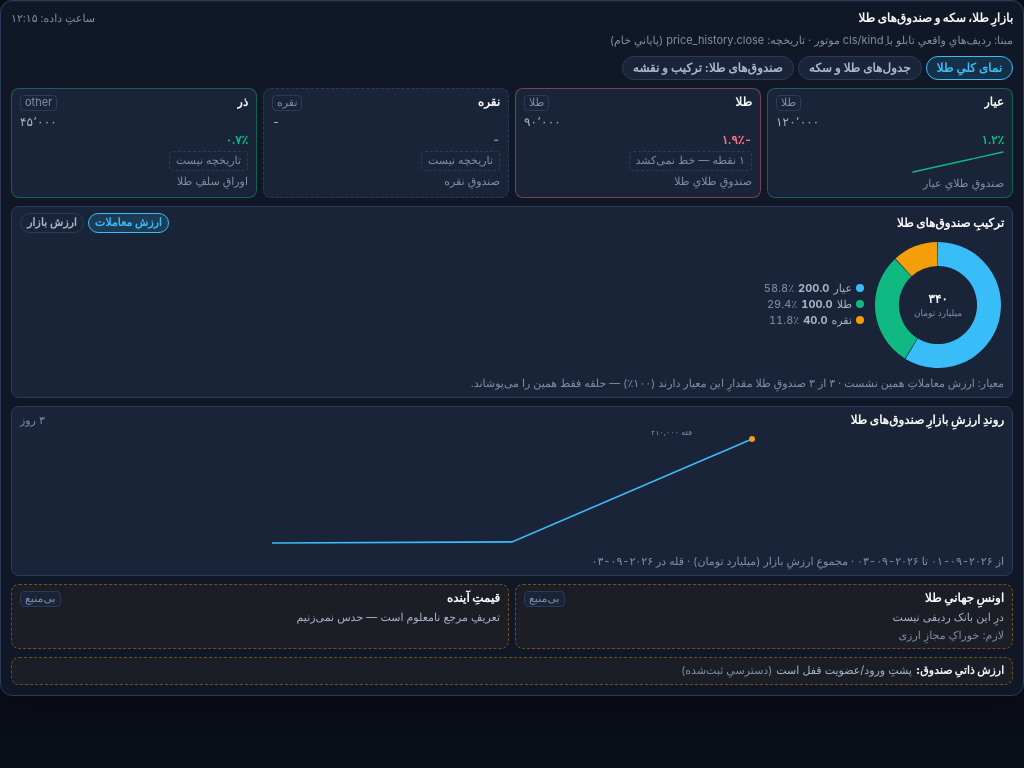
طلا، سکه و صندوق‌های طلا (صفحاتِ ۱/۳/۱۰/۱۱/۱۲) › معیارِ حلقه عوض می‌شود و بی‌داده (ارزش بازارِ نقره) از شمارش بیرون می‌ماند
Click the button with test id "ms-gold-donut-metric-cap" at (52, 223), box [20,213,84,233]
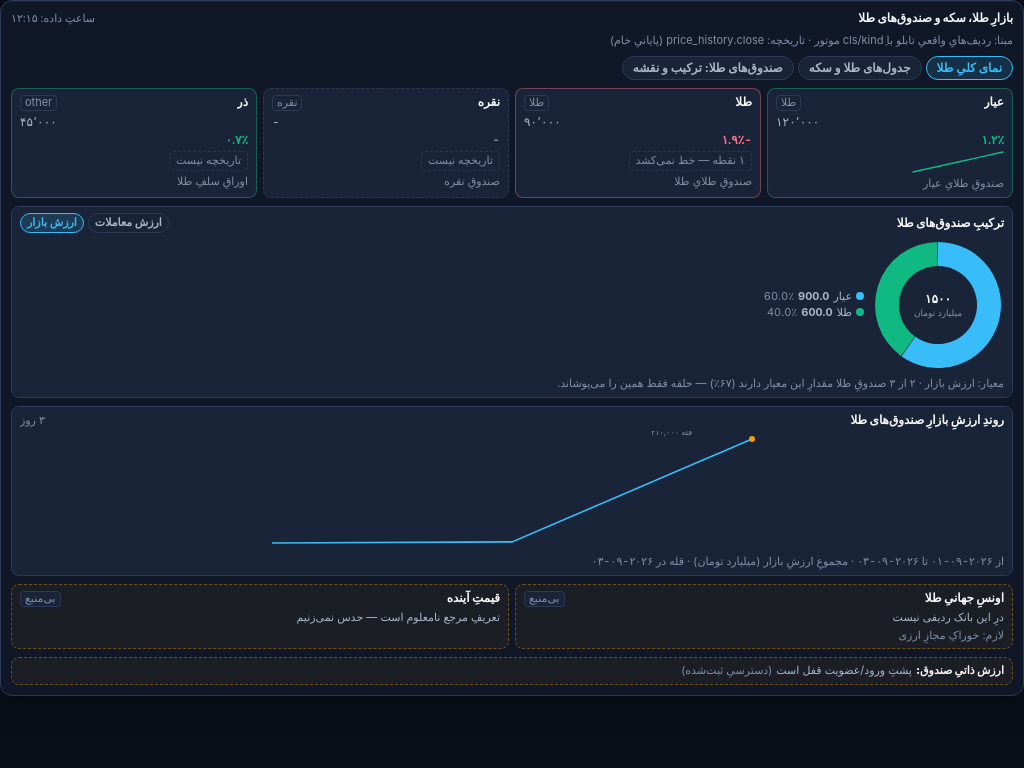
Expected: the text with test id "ms-gold-donut-coverage" shows "۲ از ۳", [557,376,1004,390]
